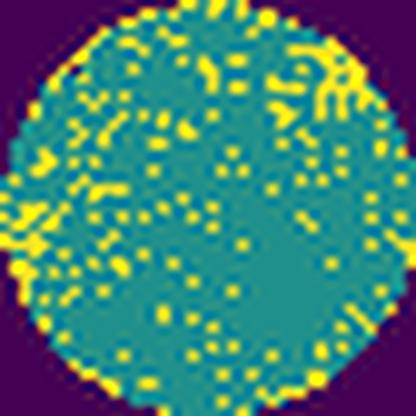Edge-Loc: (288, 30, 388, 118)
